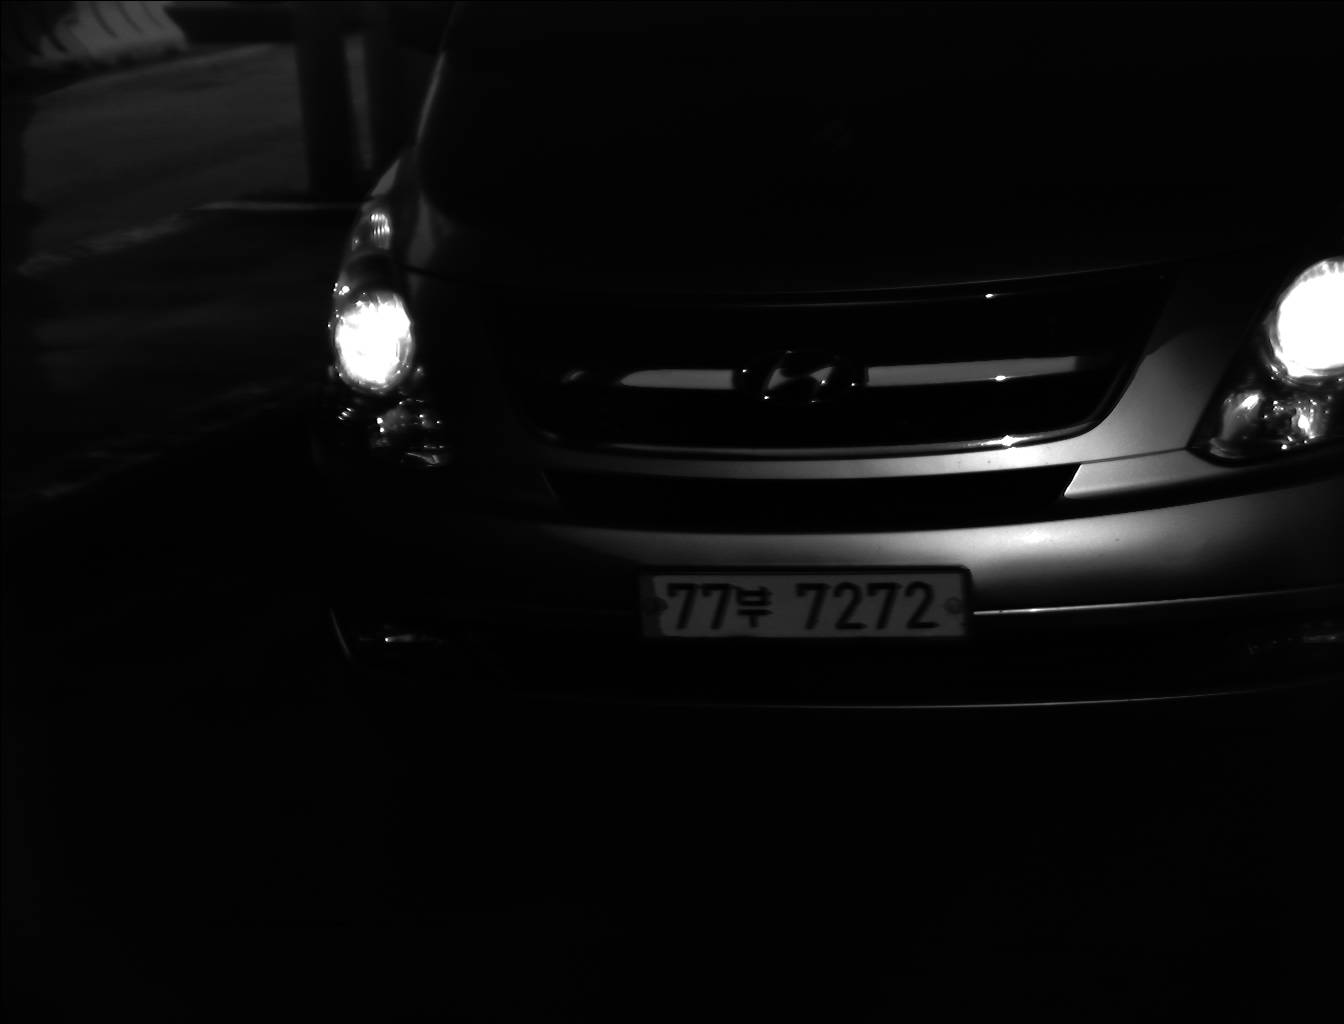car: (312, 2, 1344, 723)
plate: (611, 564, 976, 648)
